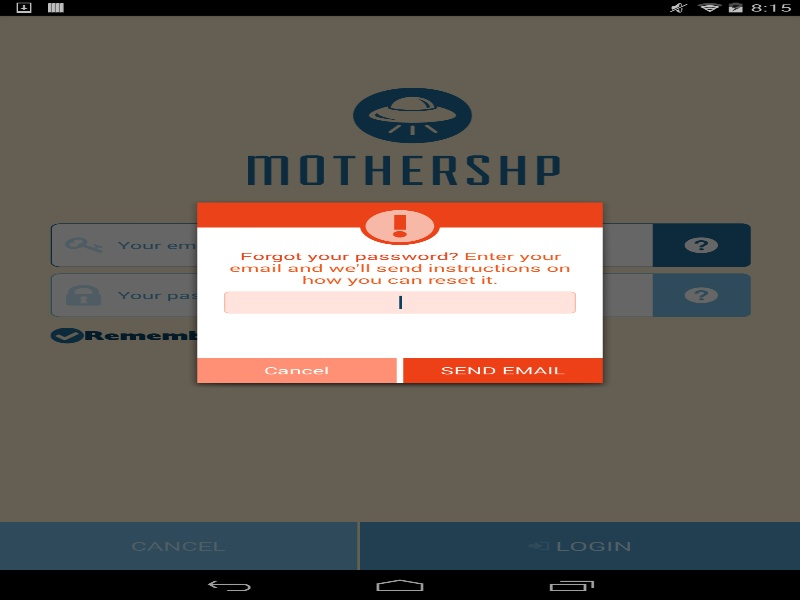Button: (197, 358, 396, 383), (403, 358, 602, 383)
Input: (224, 291, 576, 313)
